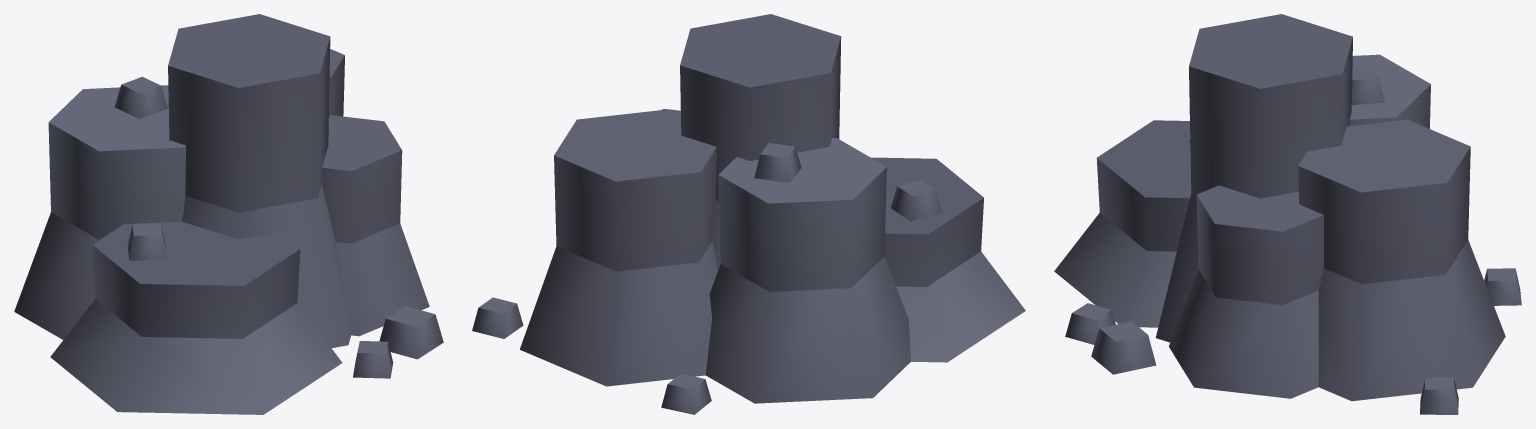
The model's file is rocks-c.glb.
3 renders of one model, left to right at view 1: azimuth 30°, elevation 25°; view 2: azimuth 150°, elevation 25°; view 3: azimuth 270°, elevation 25°, orthographic.
Parts seen in each view (by area): view 1: rocks-c; view 2: rocks-c; view 3: rocks-c.
Boxes of the visible parts, x1,y1,x2,y2 form: rocks-c: (14, 14, 443, 414); rocks-c: (472, 14, 1025, 414); rocks-c: (1054, 14, 1521, 414).
Bounding box in the file's own units: 3.64 × 2.3 × 3.67.
